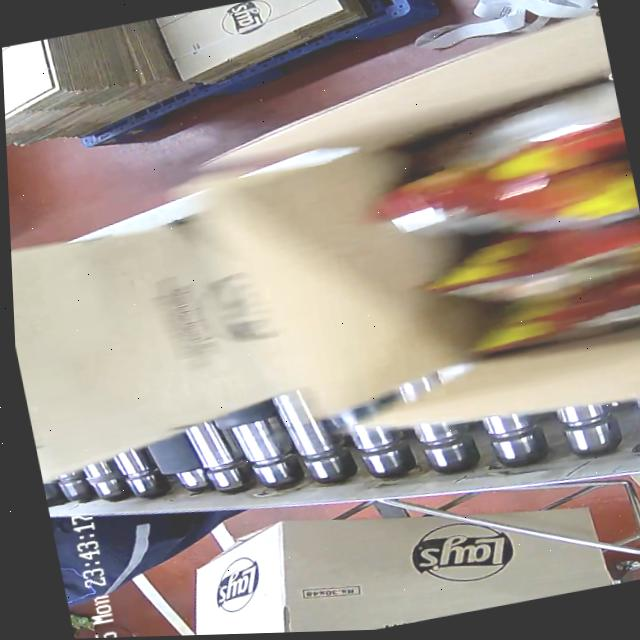MASALA: (368, 69, 640, 381)
